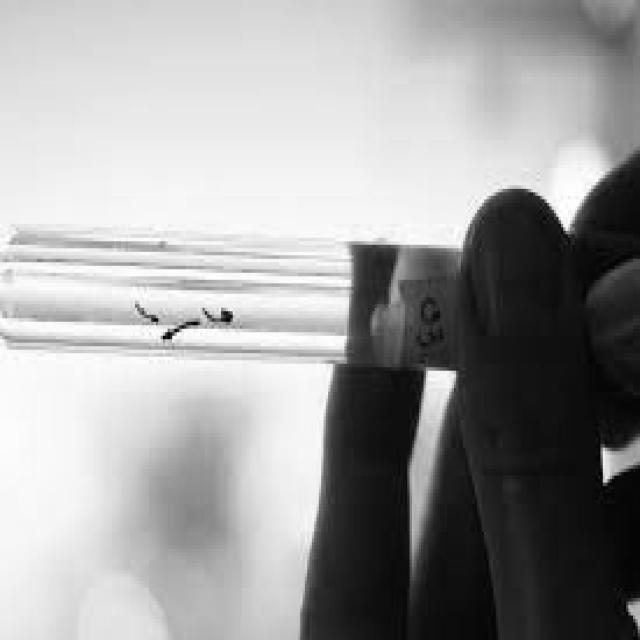larvas: (161, 318, 200, 339), (135, 301, 158, 322), (202, 308, 233, 322)
